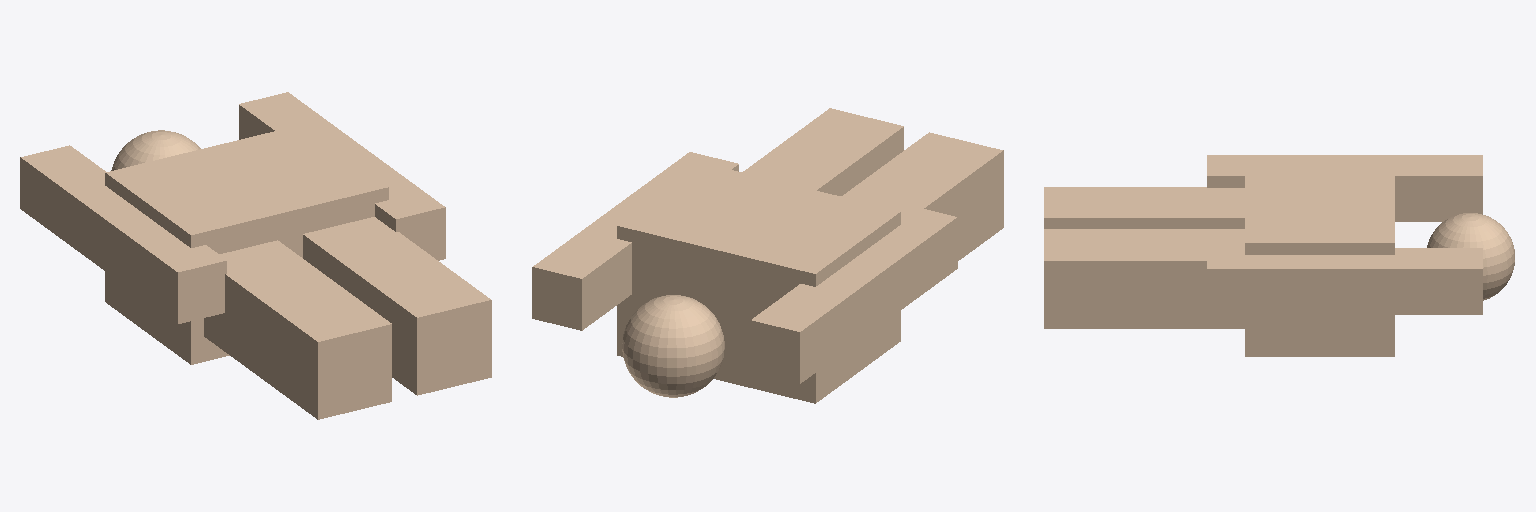
The robot description file, URDF, robot "mannequin_supine":
<?xml version="1.0"?>
<!--
  Simple URDF for 70 kg mannequin (supine position)
  Used as load simulator for testing cushion.
-->
<robot name="mannequin_supine">

  <link name="head">
    <visual>
      <origin xyz="0 0 0" rpy="0 0 0"/>
      <geometry>
        <sphere radius="0.09"/>
      </geometry>
      <material name="skin">
        <color rgba="0.9 0.8 0.7 1.0"/>
      </material>
    </visual>
    <collision>
      <origin xyz="0 0 0" rpy="0 0 0"/>
      <geometry>
        <sphere radius="0.09"/>
      </geometry>
    </collision>
    <inertial>
      <mass value="5.0"/>
      <inertia ixx="0.02" ixy="0" ixz="0" iyy="0.02" iyz="0" izz="0.01"/>
    </inertial>
  </link>

  <link name="torso">
    <visual>
      <origin xyz="0 0 0" rpy="0 0 0"/>
      <geometry>
        <box size="0.40 0.30 0.25"/>
      </geometry>
      <material name="skin">
        <color rgba="0.9 0.8 0.7 1.0"/>
      </material>
    </visual>
    <collision>
      <origin xyz="0 0 0" rpy="0 0 0"/>
      <geometry>
        <box size="0.40 0.30 0.25"/>
      </geometry>
    </collision>
    <inertial>
      <mass value="35.0"/>
      <inertia ixx="0.5" ixy="0" ixz="0" iyy="0.4" iyz="0" izz="0.3"/>
    </inertial>
  </link>

  <joint name="head_to_torso" type="fixed">
    <parent link="torso"/>
    <child link="head"/>
    <origin xyz="0.0 0.30 0.0" rpy="0 0 0"/>
  </joint>

  <link name="left_arm">
    <visual>
      <origin xyz="0 0 0" rpy="0 0 0"/>
      <geometry>
        <box size="0.10 0.55 0.10"/>
      </geometry>
      <material name="skin"/>
    </visual>
    <collision>
      <origin xyz="0 0 0" rpy="0 0 0"/>
      <geometry>
        <box size="0.10 0.55 0.10"/>
      </geometry>
    </collision>
    <inertial>
      <mass value="4.0"/>
      <inertia ixx="0.05" ixy="0" ixz="0" iyy="0.05" iyz="0" izz="0.01"/>
    </inertial>
  </link>

  <joint name="left_arm_to_torso" type="fixed">
    <parent link="torso"/>
    <child link="left_arm"/>
    <origin xyz="-0.22 0.05 0.05" rpy="0 0 0"/>
  </joint>

  <link name="right_arm">
    <visual>
      <origin xyz="0 0 0" rpy="0 0 0"/>
      <geometry>
        <box size="0.10 0.55 0.10"/>
      </geometry>
      <material name="skin"/>
    </visual>
    <collision>
      <origin xyz="0 0 0" rpy="0 0 0"/>
      <geometry>
        <box size="0.10 0.55 0.10"/>
      </geometry>
    </collision>
    <inertial>
      <mass value="4.0"/>
      <inertia ixx="0.05" ixy="0" ixz="0" iyy="0.05" iyz="0" izz="0.01"/>
    </inertial>
  </link>

  <joint name="right_arm_to_torso" type="fixed">
    <parent link="torso"/>
    <child link="right_arm"/>
    <origin xyz="0.22 0.05 0.05" rpy="0 0 0"/>
  </joint>

  <link name="left_leg">
    <visual>
      <origin xyz="0 0 0" rpy="0 0 0"/>
      <geometry>
        <box size="0.15 0.40 0.15"/>
      </geometry>
      <material name="skin"/>
    </visual>
    <collision>
      <origin xyz="0 0 0" rpy="0 0 0"/>
      <geometry>
        <box size="0.15 0.40 0.15"/>
      </geometry>
    </collision>
    <inertial>
      <mass value="11.0"/>
      <inertia ixx="0.1" ixy="0" ixz="0" iyy="0.1" iyz="0" izz="0.02"/>
    </inertial>
  </link>

  <joint name="left_leg_to_torso" type="fixed">
    <parent link="torso"/>
    <child link="left_leg"/>
    <origin xyz="-0.10 -0.35 0.0" rpy="0 0 0"/>
  </joint>

  <link name="right_leg">
    <visual>
      <origin xyz="0 0 0" rpy="0 0 0"/>
      <geometry>
        <box size="0.15 0.40 0.15"/>
      </geometry>
      <material name="skin"/>
    </visual>
    <collision>
      <origin xyz="0 0 0" rpy="0 0 0"/>
      <geometry>
        <box size="0.15 0.40 0.15"/>
      </geometry>
    </collision>
    <inertial>
      <mass value="11.0"/>
      <inertia ixx="0.1" ixy="0" ixz="0" iyy="0.1" iyz="0" izz="0.02"/>
    </inertial>
  </link>

  <joint name="right_leg_to_torso" type="fixed">
    <parent link="torso"/>
    <child link="right_leg"/>
    <origin xyz="0.10 -0.35 0.0" rpy="0 0 0"/>
  </joint>

</robot>

--- Facts derived from the render (not from the file) ---
The picture shows the robot from 3 angles, left to right: view 1: azimuth 30°, elevation 25°; view 2: azimuth 150°, elevation 25°; view 3: azimuth 270°, elevation 25°; orthographic projection.
Model mannequin_supine with 6 links and 5 joints (5 fixed), rooted at torso, posed all joints at 0.
Visible links, largest first — view 1: torso, left_leg, right_leg, left_arm, right_arm, head; view 2: torso, left_arm, left_leg, right_arm, head, right_leg; view 3: torso, right_leg, right_arm, left_leg, left_arm, head.
Boxes of the visible links, bbox=[...] form: torso: bbox=[105, 124, 388, 364]; left_leg: bbox=[204, 240, 391, 419]; right_leg: bbox=[303, 217, 491, 395]; left_arm: bbox=[20, 145, 226, 323]; right_arm: bbox=[239, 92, 445, 260]; head: bbox=[111, 130, 200, 170]; torso: bbox=[617, 163, 900, 403]; left_arm: bbox=[751, 205, 957, 383]; left_leg: bbox=[841, 132, 1003, 260]; right_arm: bbox=[532, 152, 738, 330]; head: bbox=[622, 295, 724, 397]; right_leg: bbox=[742, 108, 903, 195]; torso: bbox=[1245, 159, 1394, 356]; right_leg: bbox=[1044, 229, 1244, 328]; right_arm: bbox=[1207, 248, 1482, 314]; left_leg: bbox=[1044, 187, 1244, 228]; left_arm: bbox=[1207, 155, 1482, 221]; head: bbox=[1427, 213, 1514, 300].
Size in the robot's own frame: 0.54 by 0.94 by 0.25 metres.
Geometry: primitives only (box / cylinder / sphere), no mesh files.
